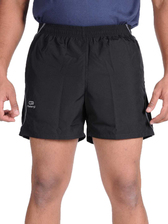clothoes: (18, 18, 159, 142)
